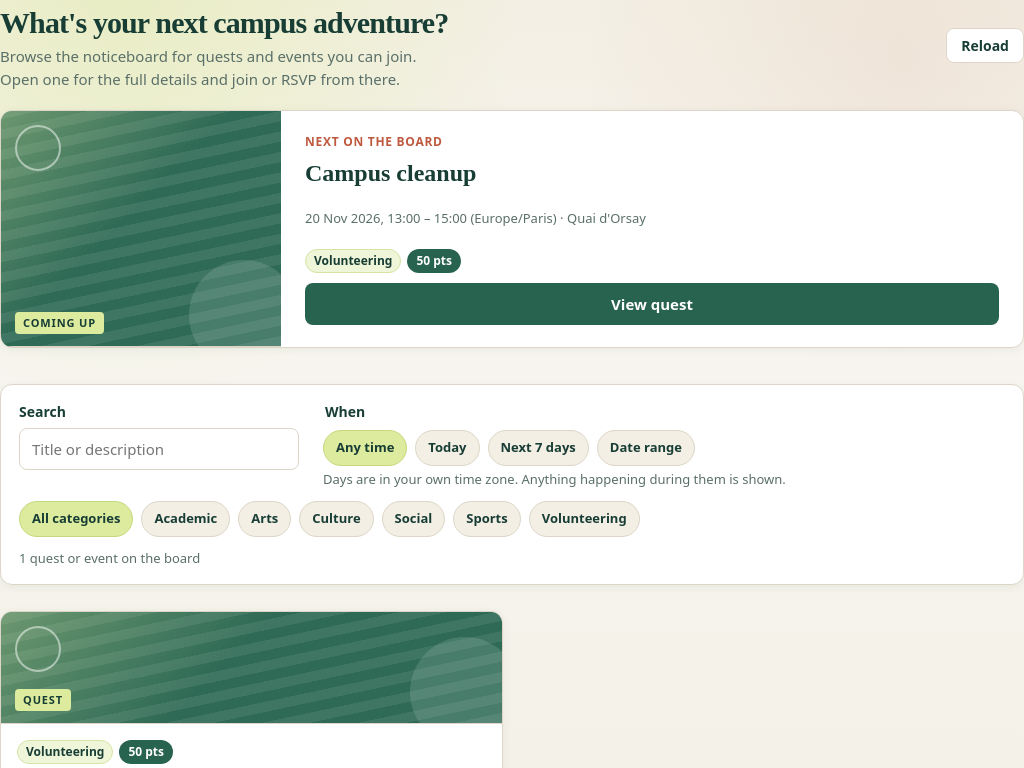
Test: Server-side filters and paging › never lets an older response replace a newer one
This screenshot has width=1024, height=768.
Click the button "Arts". click: (265, 519)
box: [238,501,291,537]
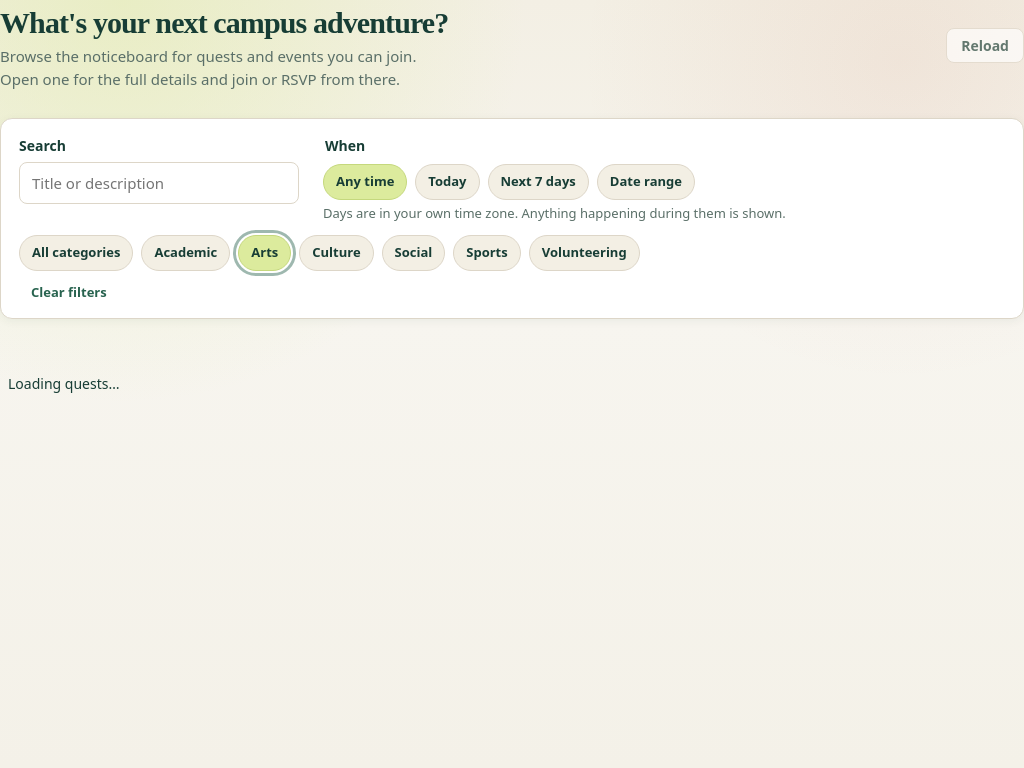
Click the button "Sports". click: (487, 253)
box: [453,235,521,270]
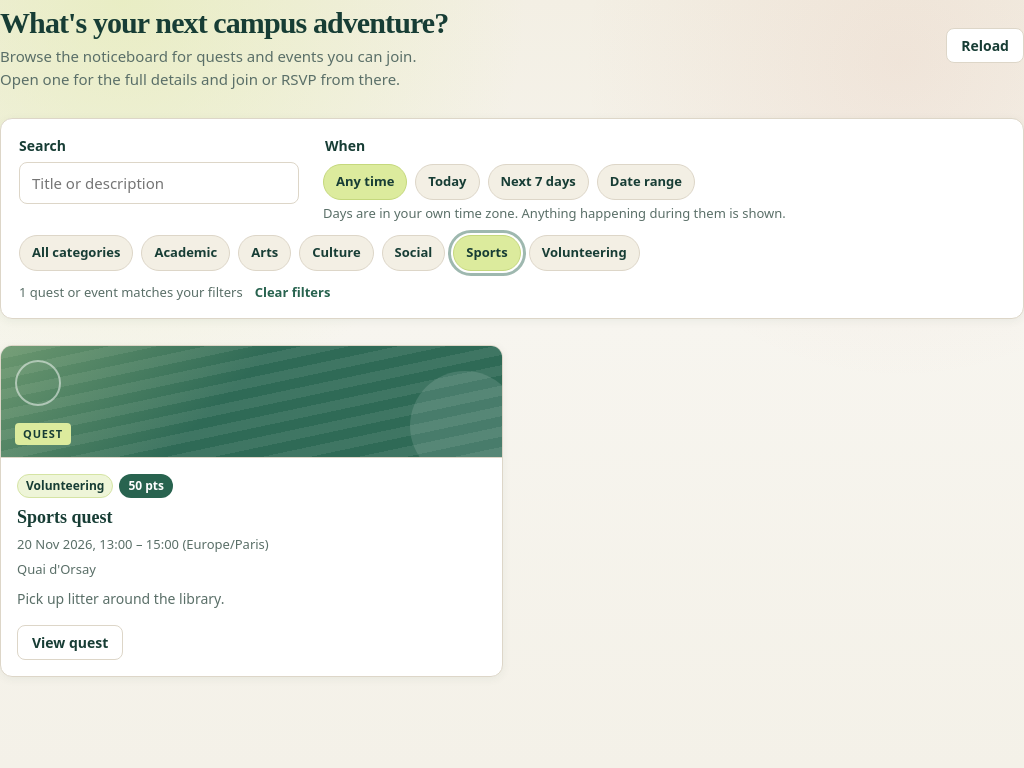
expect the heading "Sports quest" is shown: met, box [17,507,112,527]
